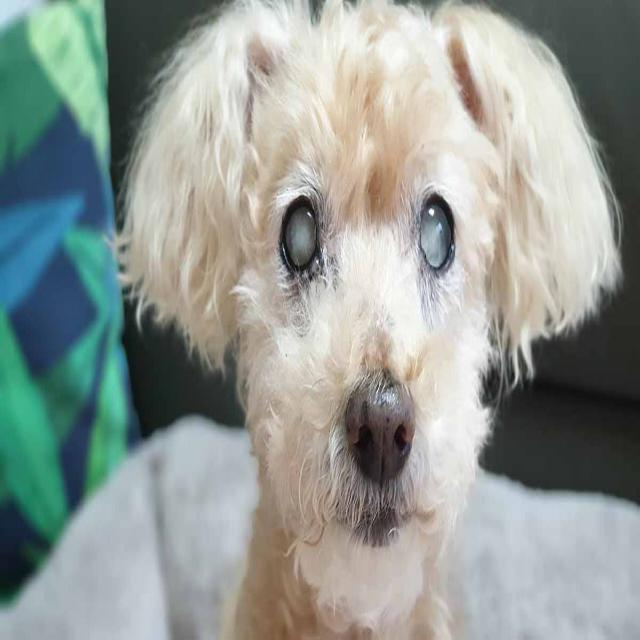eye: (276, 187, 324, 280), (417, 188, 457, 280)
